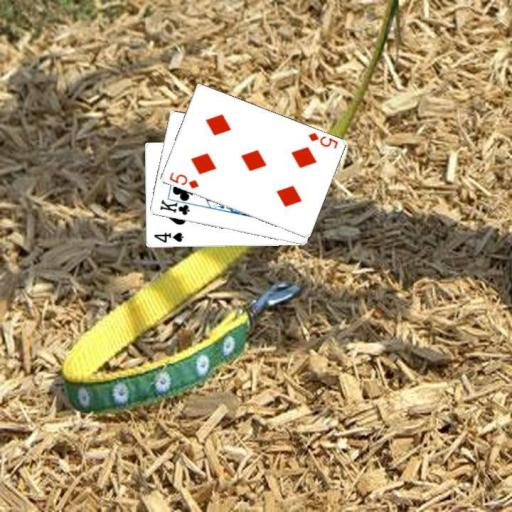4S: (151, 230, 184, 245)
5D: (305, 129, 340, 150), (166, 169, 200, 190)
KC: (157, 195, 196, 217)
